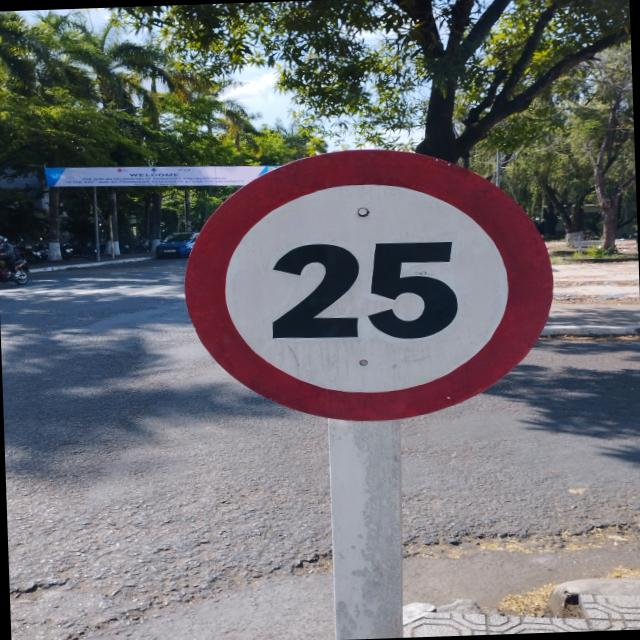Tre_Em: (178, 138, 560, 432)
